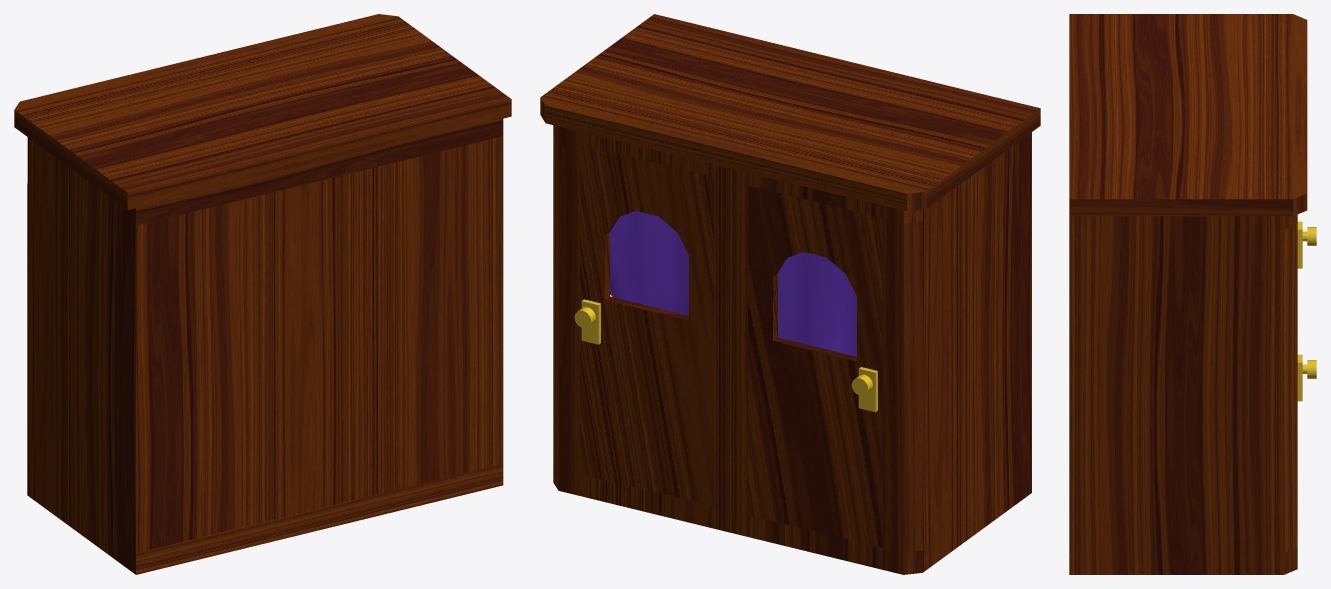
Rendered from confessional.glb.
3 renders of one model, left to right at view 1: azimuth 30°, elevation 25°; view 2: azimuth 150°, elevation 25°; view 3: azimuth 270°, elevation 25°, orthographic.
Parts seen in each view (by area): view 1: Box; view 2: Box, Door L, Door R, R Curtain, L Curtain; view 3: Box, Door R, Door L.
Boxes of the visible parts, x1,y1,x2,y2 form: Box: (14,14,511,574); Box: (540,14,1040,574); Door L: (574,144,714,506); Door R: (748,185,882,547); R Curtain: (778,252,856,356); L Curtain: (610,211,688,315); Box: (1069,14,1307,574); Door R: (1297,221,1316,268); Door L: (1297,354,1316,401).
Bounding box in the file's own units: 2.3 × 2.2 × 1.3.
3 materials, 1 textured.
